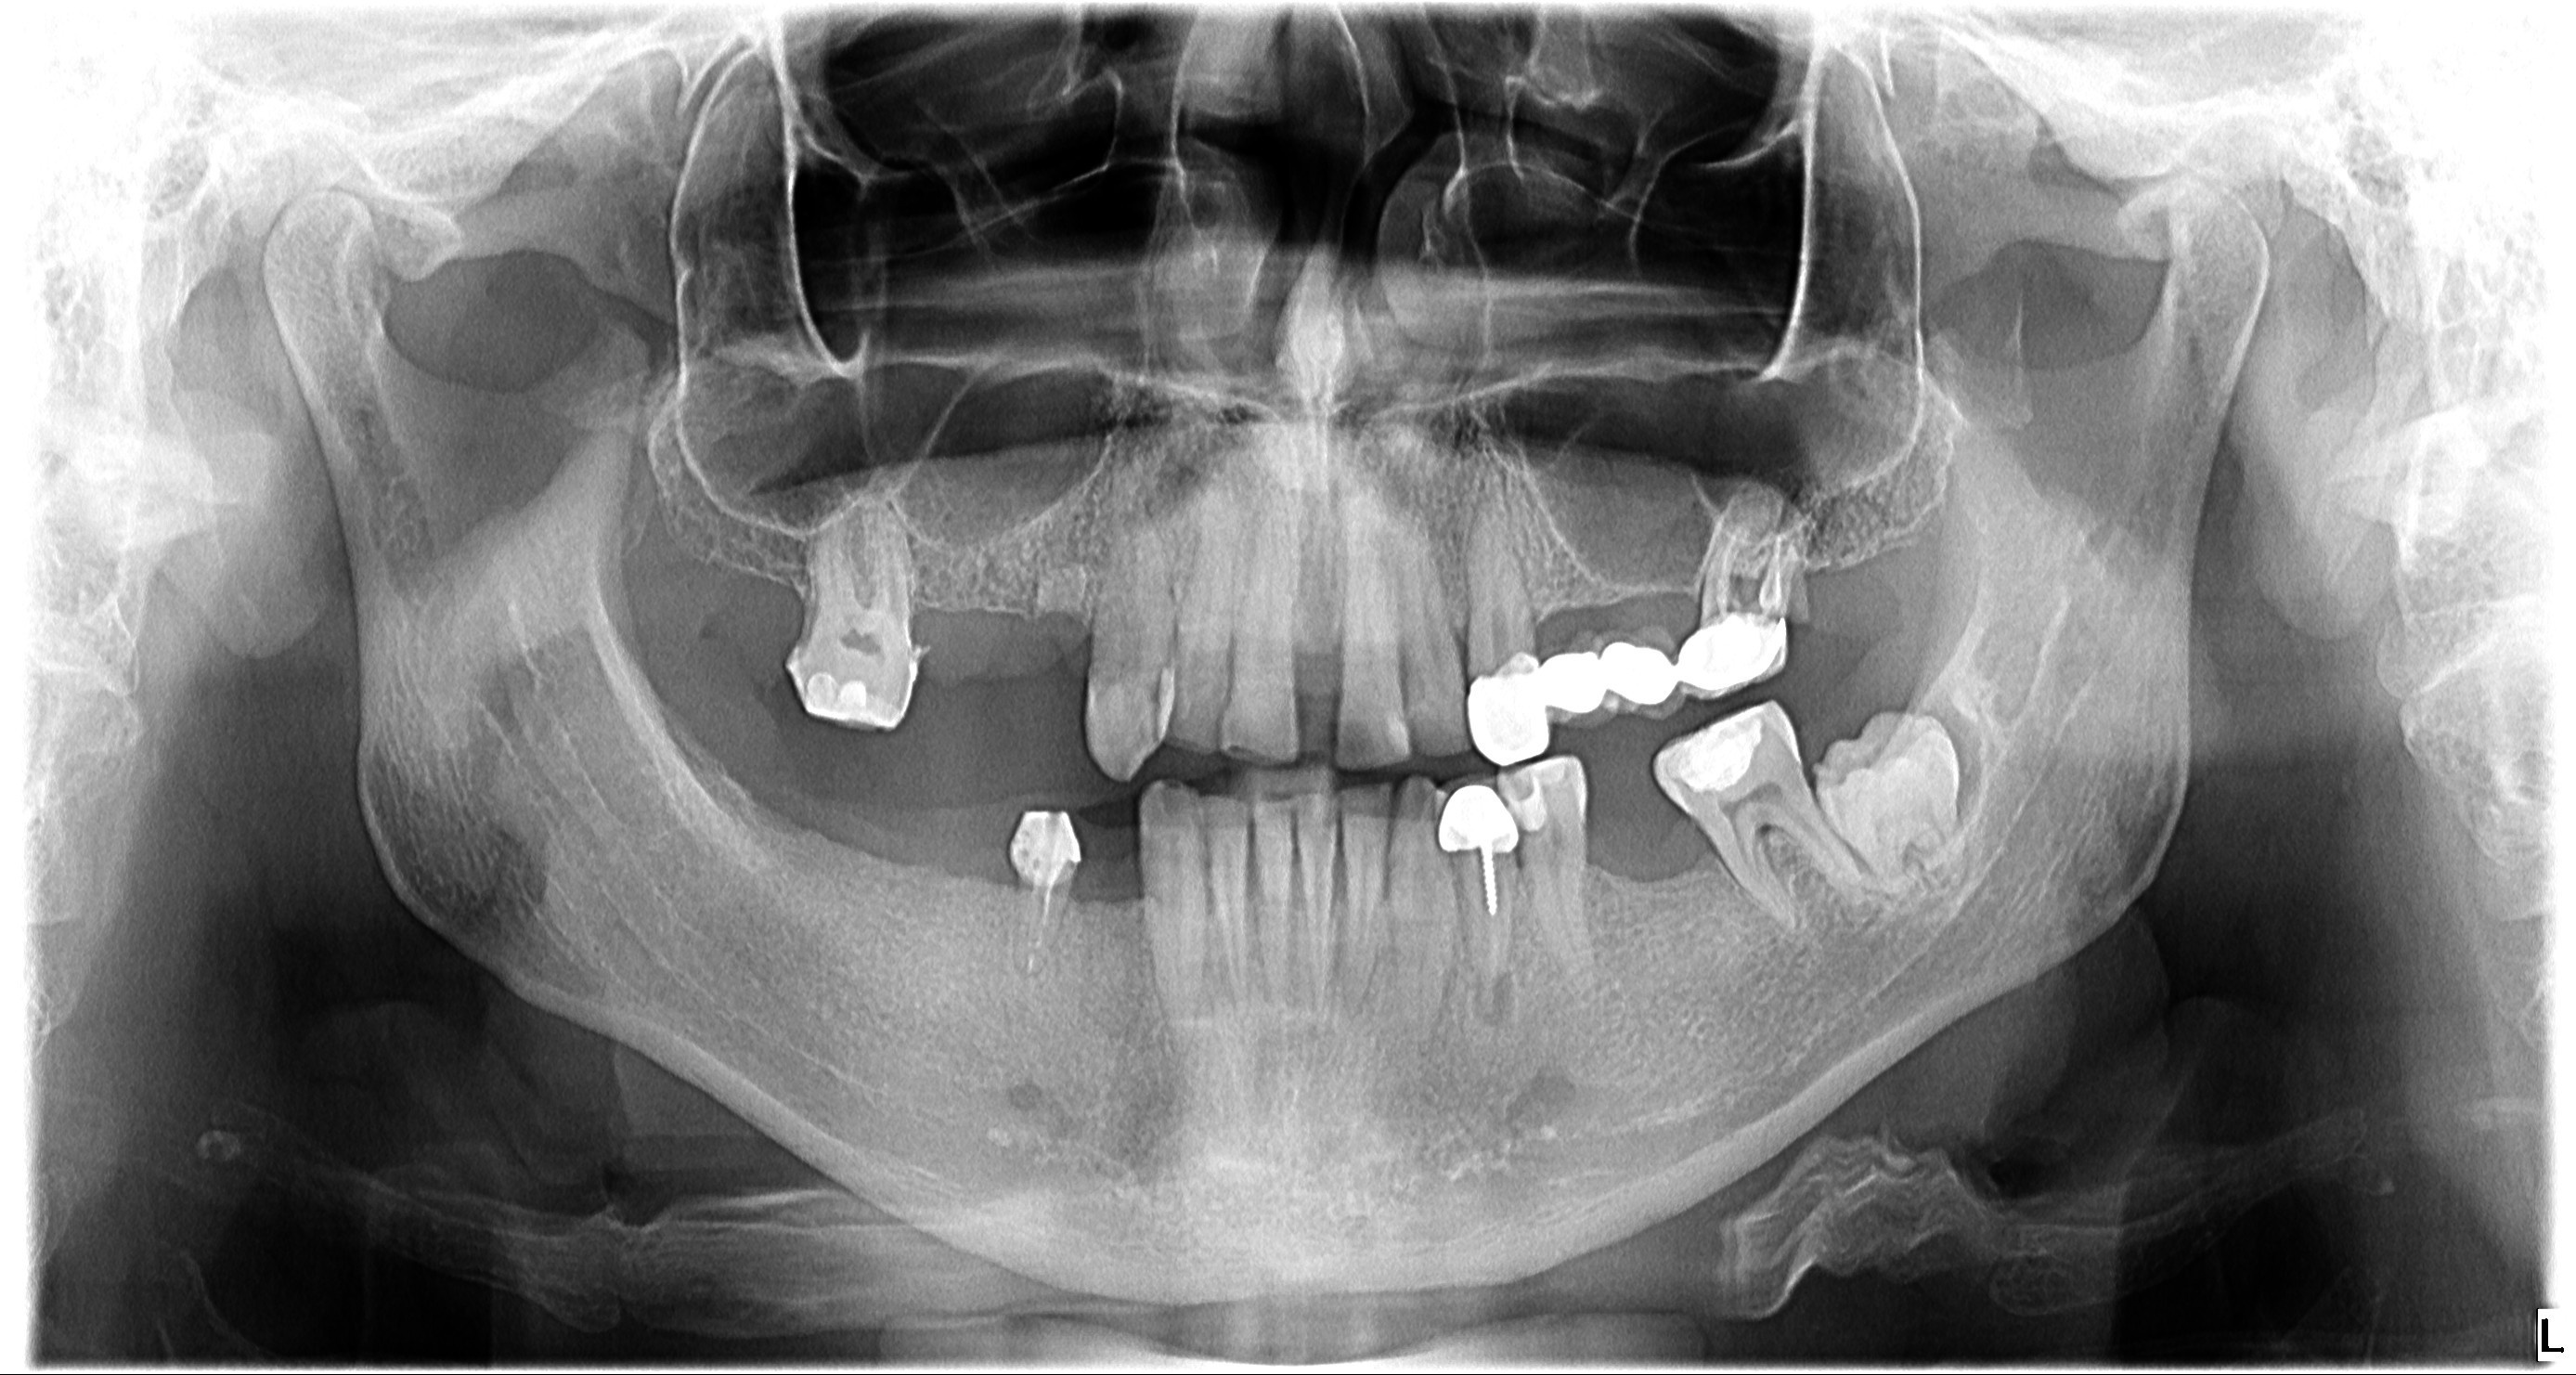API: (1457, 973, 1523, 1029)
BON: (1814, 682, 1987, 883)
END: (1699, 489, 1816, 624), (1019, 864, 1063, 968)
FUR: (1734, 820, 1804, 862)
OBT: (1474, 591, 1797, 770), (1440, 772, 1523, 877)
PRR: (1670, 717, 1780, 785), (799, 663, 908, 729), (1002, 813, 1089, 888), (1487, 760, 1564, 843)
ROT: (1022, 528, 1095, 642)
